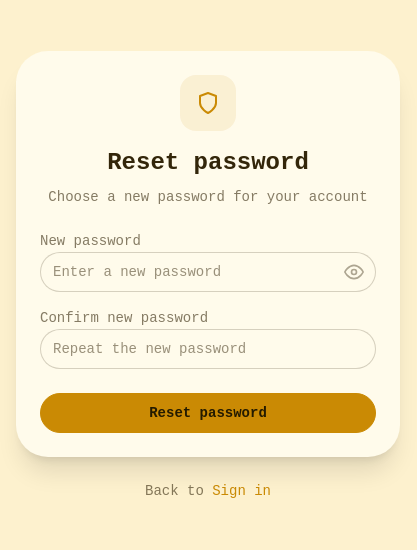
Test: ResetPasswordPage › shows an error when passwords do not match
Type "one" into the password field labelled "New password". click: (208, 272)
box: [40,252,376,292]
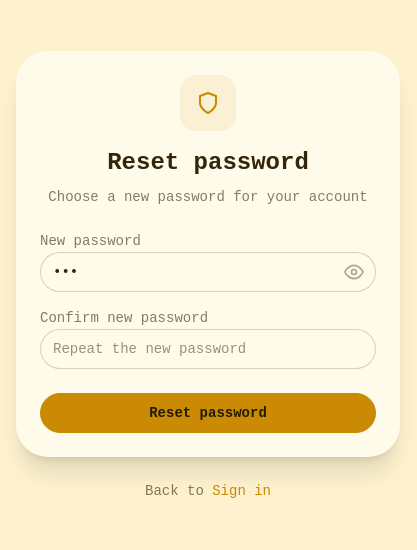
Type "two" into the password field labelled "Confirm new password". click: (208, 349)
box: [40,329,376,369]
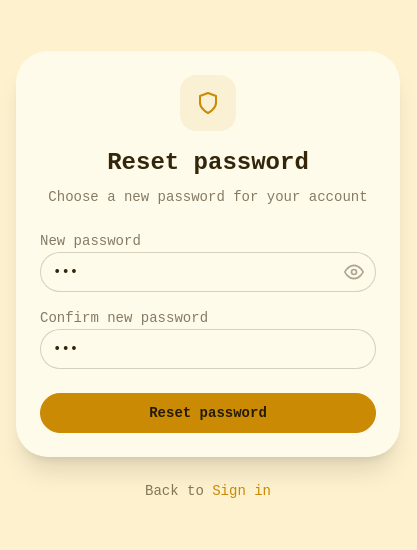
Click the button "Reset password". click: (208, 413)
box: [40,393,376,433]
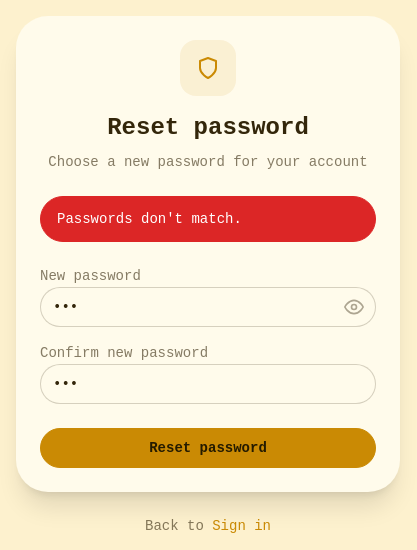
Now the text "Passwords don't match." is shown, box [40,196,376,242]
